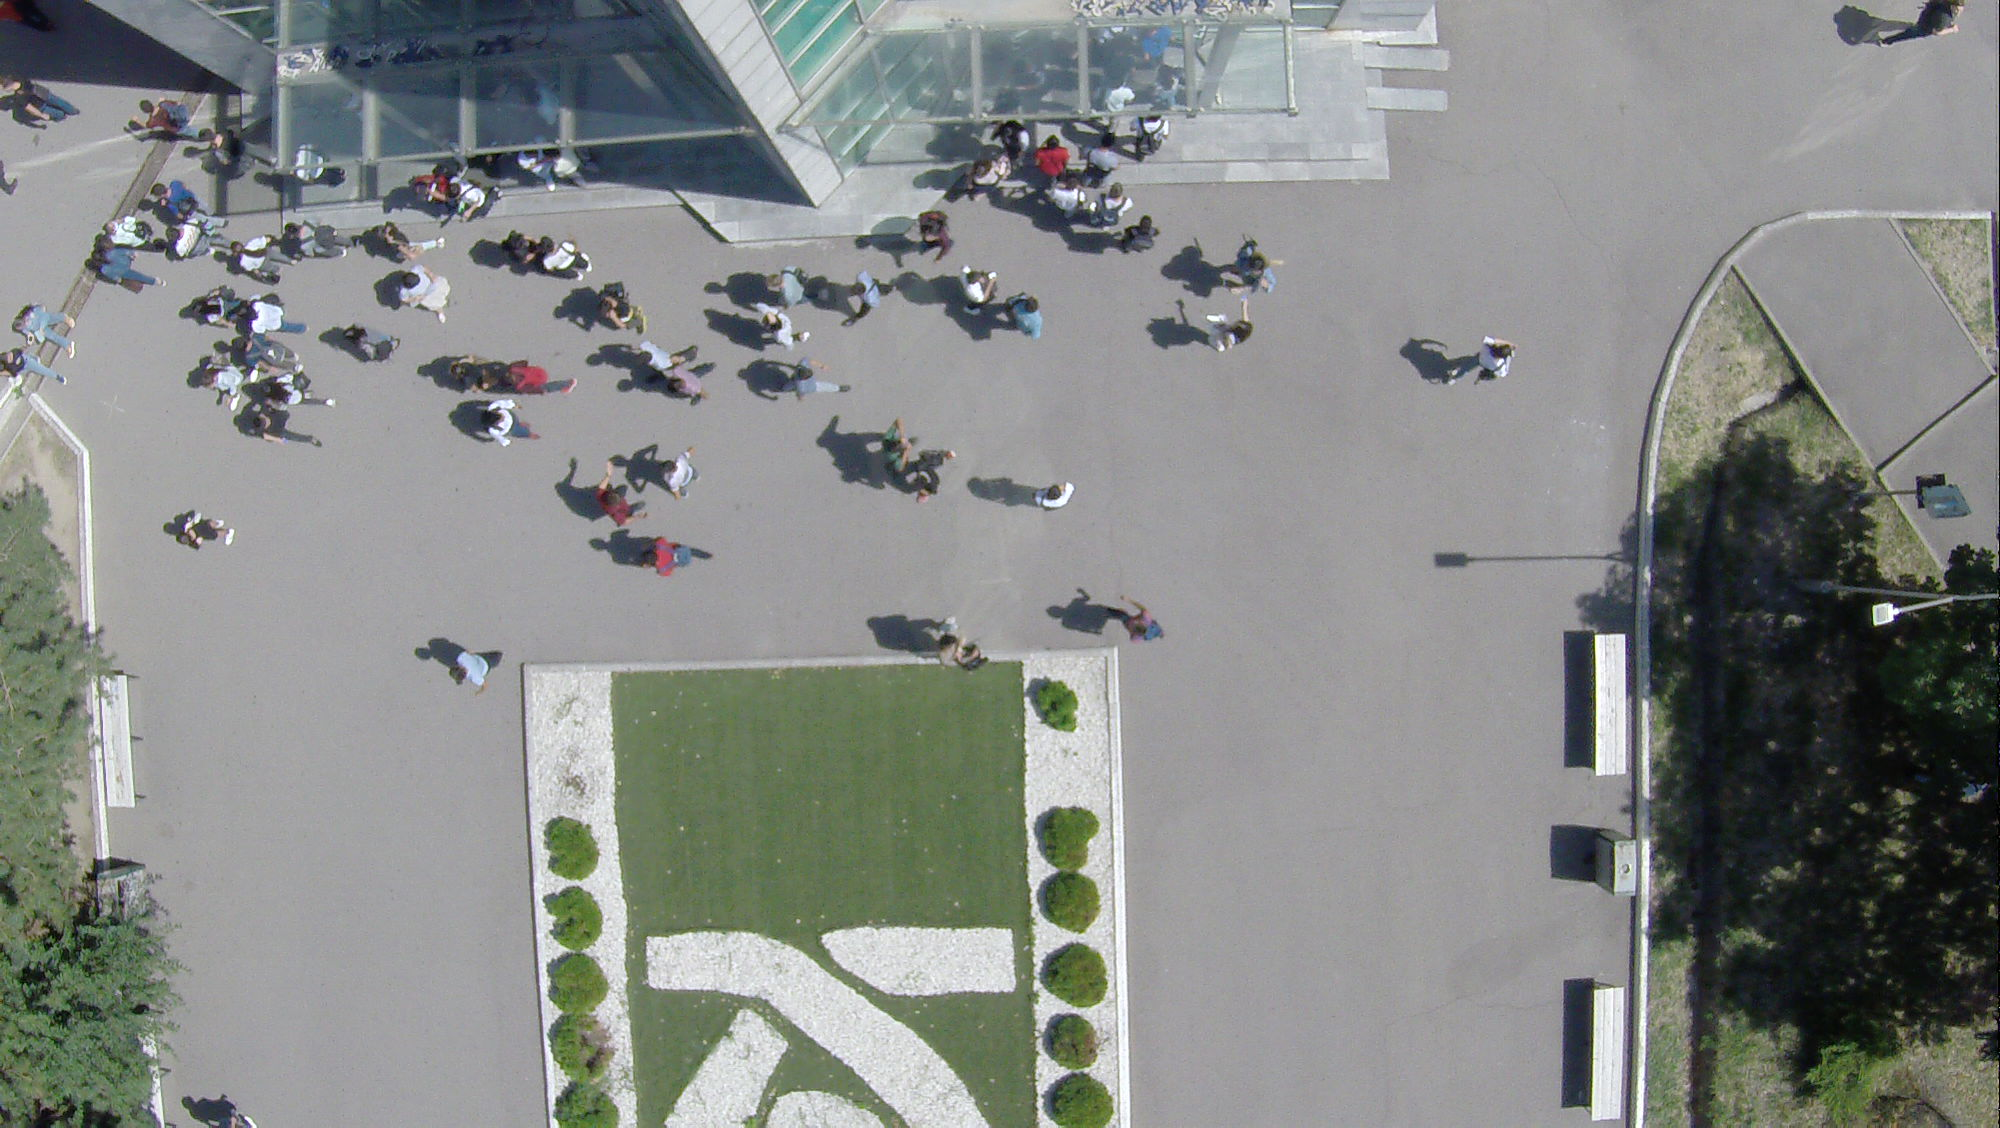person: (389, 261, 456, 328), (199, 122, 280, 173), (149, 176, 231, 225), (593, 456, 645, 530), (1450, 337, 1515, 392), (15, 302, 77, 358), (637, 536, 713, 581), (226, 235, 295, 285), (125, 95, 201, 137), (846, 272, 896, 336), (1191, 301, 1251, 353), (1226, 232, 1276, 295), (931, 628, 992, 679), (441, 647, 507, 693), (1, 345, 67, 390), (1108, 595, 1165, 647), (479, 401, 541, 447), (781, 358, 850, 399), (749, 305, 810, 349), (96, 251, 166, 290), (238, 297, 309, 334), (286, 223, 357, 260), (175, 512, 238, 554), (594, 283, 646, 333), (635, 337, 698, 377), (658, 444, 701, 503), (234, 336, 304, 372), (768, 268, 830, 308), (877, 415, 915, 477), (254, 410, 318, 445), (263, 380, 335, 412), (957, 266, 1001, 319), (541, 233, 594, 277), (1130, 113, 1173, 164), (664, 367, 717, 407), (494, 228, 545, 269), (1005, 290, 1044, 343), (909, 210, 954, 256), (100, 219, 161, 251), (450, 181, 504, 219), (162, 225, 227, 255), (1088, 185, 1133, 228), (185, 287, 235, 325), (983, 124, 1033, 162), (1031, 477, 1078, 512), (1119, 214, 1160, 256), (1047, 176, 1089, 215), (1031, 135, 1072, 175), (203, 368, 241, 410), (1084, 132, 1116, 178), (908, 464, 947, 501), (966, 161, 1003, 194)
